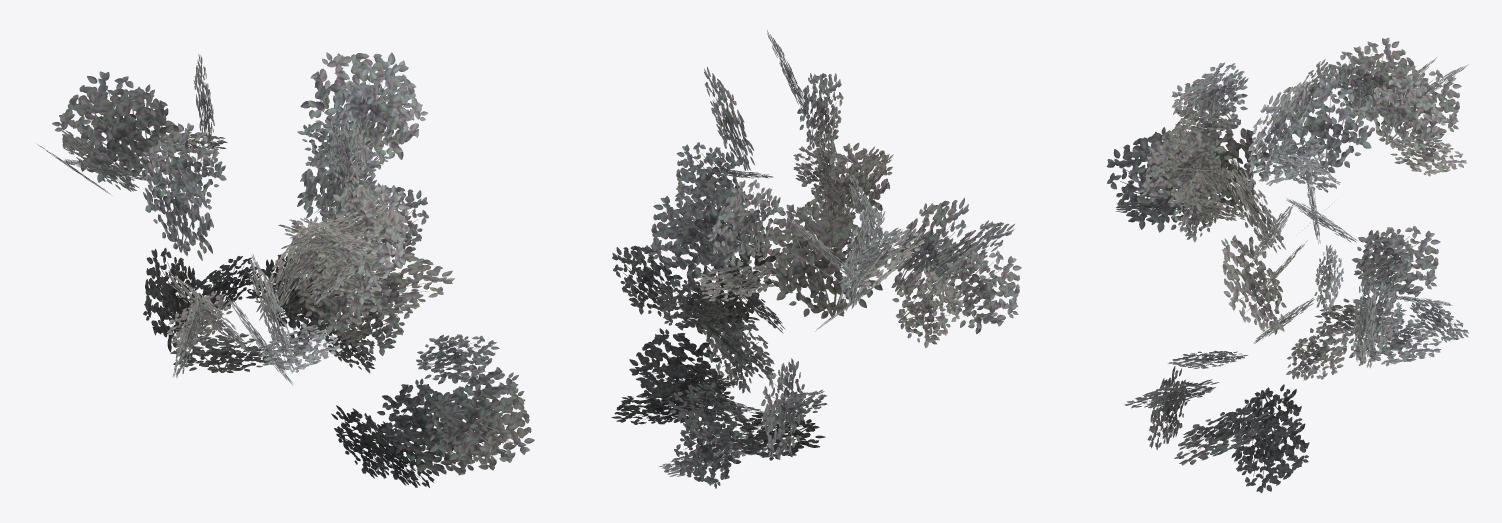
The model's file is birch_l2.gltf.
3 renders of one model, left to right at view 1: azimuth 30°, elevation 25°; view 2: azimuth 150°, elevation 25°; view 3: azimuth 270°, elevation 25°, orthographic. The views are drawn at different scales.
Parts seen in each view (by area): view 1: birch_l2; view 2: birch_l2; view 3: birch_l2.
Part boxes in pixels (bbox=[...]): birch_l2: bbox=[36, 52, 534, 487]; birch_l2: bbox=[611, 30, 1021, 488]; birch_l2: bbox=[1106, 37, 1468, 493].
Bounding box in the file's own units: 11.63 × 13.45 × 11.59.
1 material, 1 textured.
